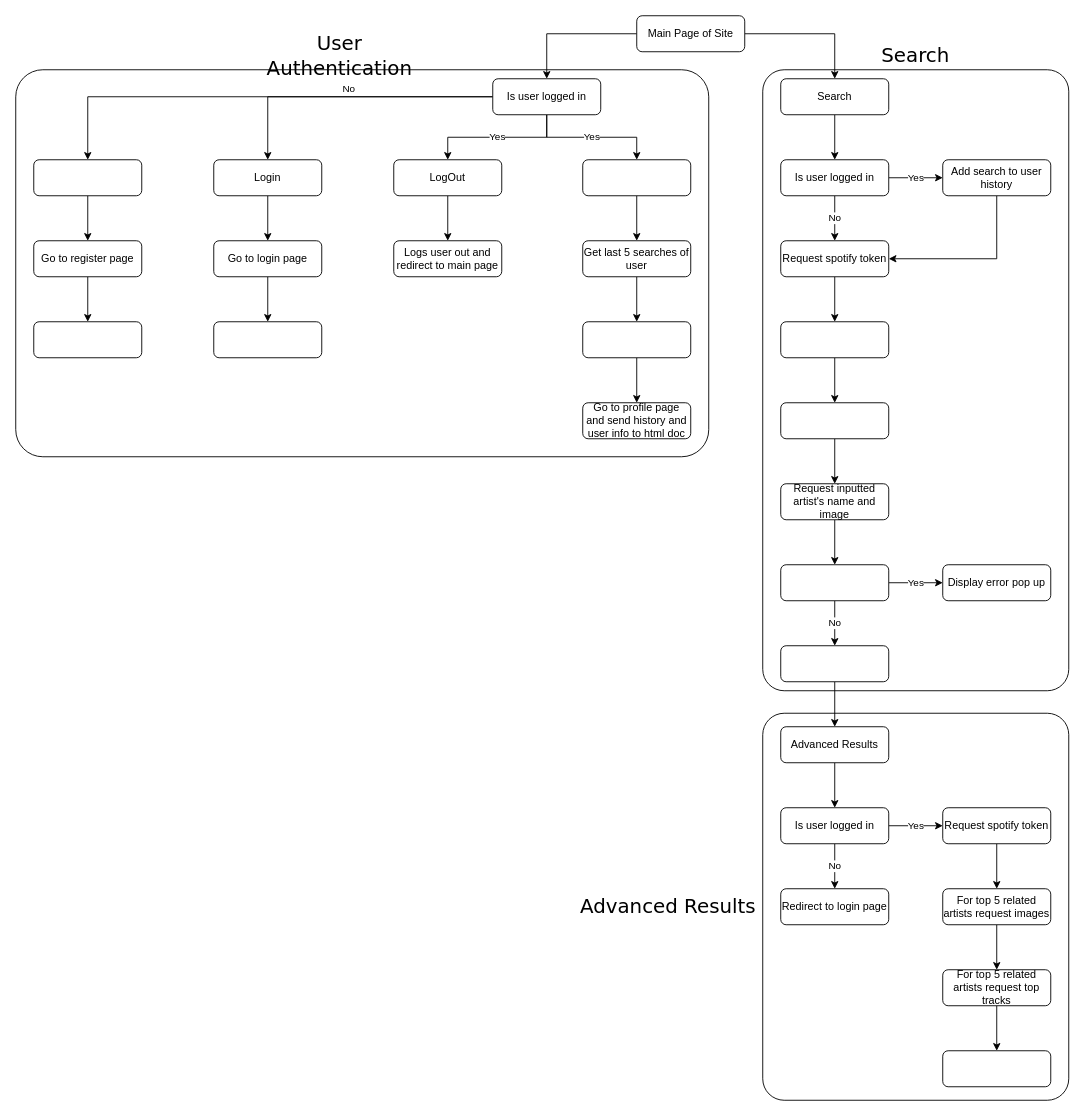
Some shapes in this 1085 by 1116 pixel diagram are drawn without their labels. The shapes that lost their labels are listed below. From the top down, each one's box as (x1, y1, x2, y2) in pixels, then its label:
(33, 159, 142, 196): Create an Account
(582, 159, 691, 196): Profile
(33, 321, 142, 358): After registering account redirect to login page
(213, 321, 322, 358): After logging in redirect to main page
(582, 321, 691, 358): Get user's email and username
(780, 321, 889, 358): Request Id of inputted artist
(780, 402, 889, 439): Request related artists
(780, 564, 889, 601): Has there been an error
(780, 645, 889, 682): Display results screen with requested info
(942, 1050, 1051, 1087): Go to advanced results page and display results
